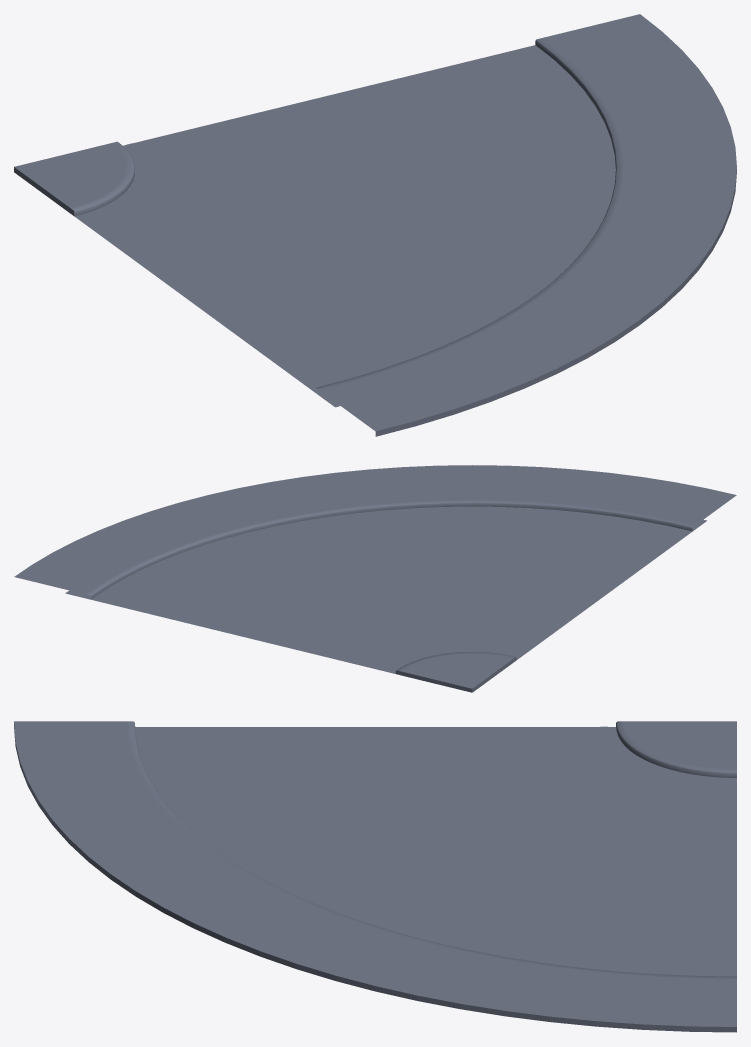
File: env_block_street_curve_4_lane_short.glb
The picture shows the model from 3 angles, top to bottom: view 1: azimuth 30°, elevation 25°; view 2: azimuth 150°, elevation 25°; view 3: azimuth 270°, elevation 25°; orthographic projection. The views are drawn at different scales.
Parts seen in each view (by area): view 1: Street_Curve_4LaneShort.gltf; view 2: Street_Curve_4LaneShort.gltf; view 3: Street_Curve_4LaneShort.gltf.
Boxes of the visible parts, x1,y1,x2,y2 form: Street_Curve_4LaneShort.gltf: [14, 14, 736, 436]; Street_Curve_4LaneShort.gltf: [14, 465, 736, 692]; Street_Curve_4LaneShort.gltf: [14, 721, 736, 1032].
Bounding box in the file's own units: 18 × 0.15 × 18.
